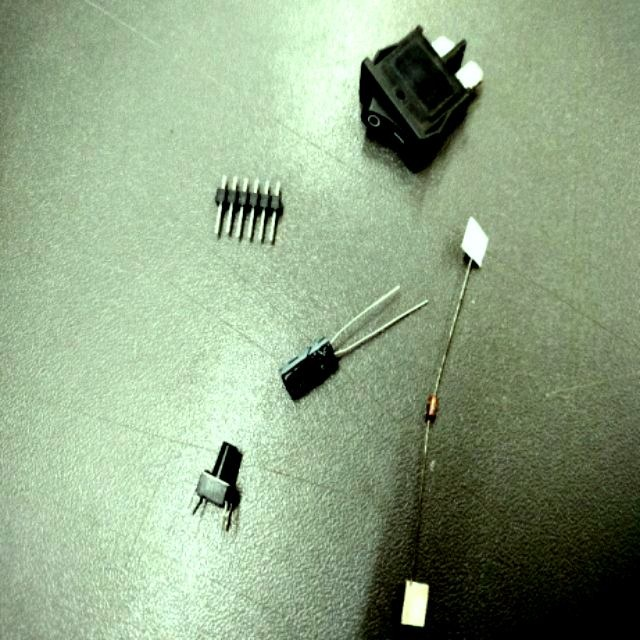capacitor: (283, 346, 338, 400)
